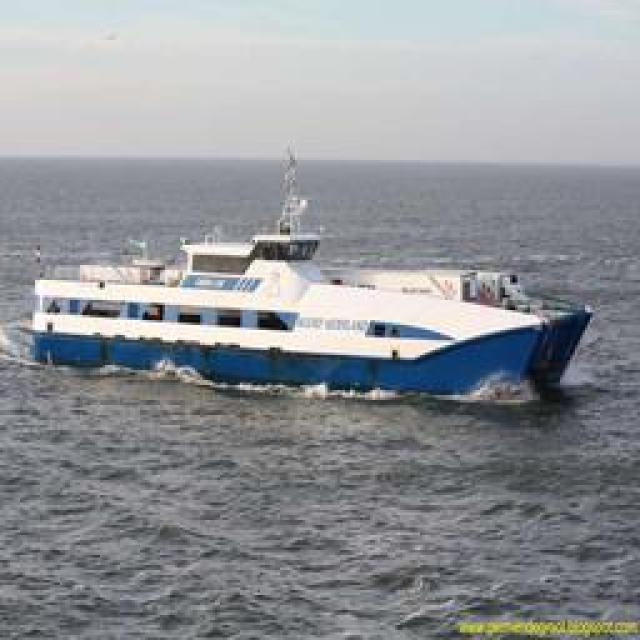Ship: (12, 199, 592, 402)
